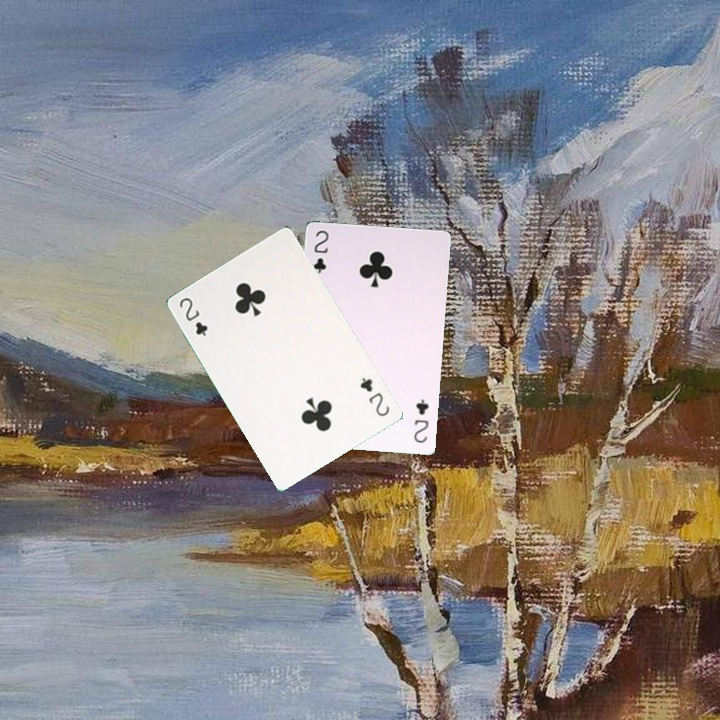2c: (356, 373, 392, 419), (175, 293, 210, 339), (410, 395, 431, 445), (310, 226, 331, 276)
